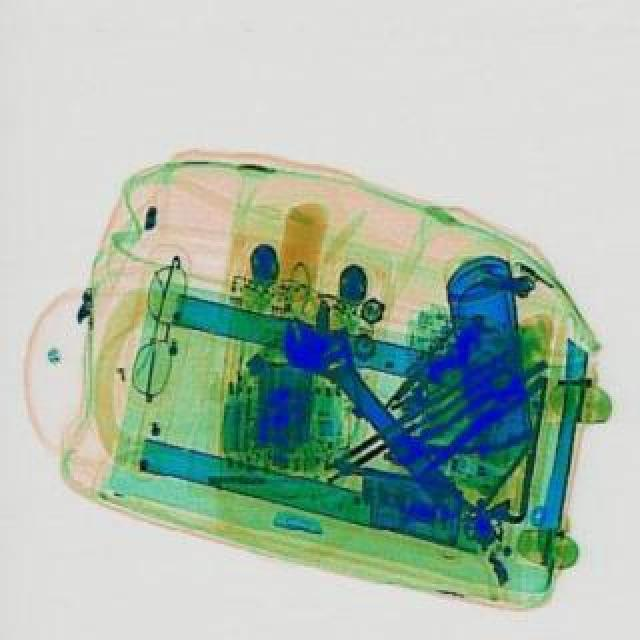scissors: (266, 294, 486, 528)
